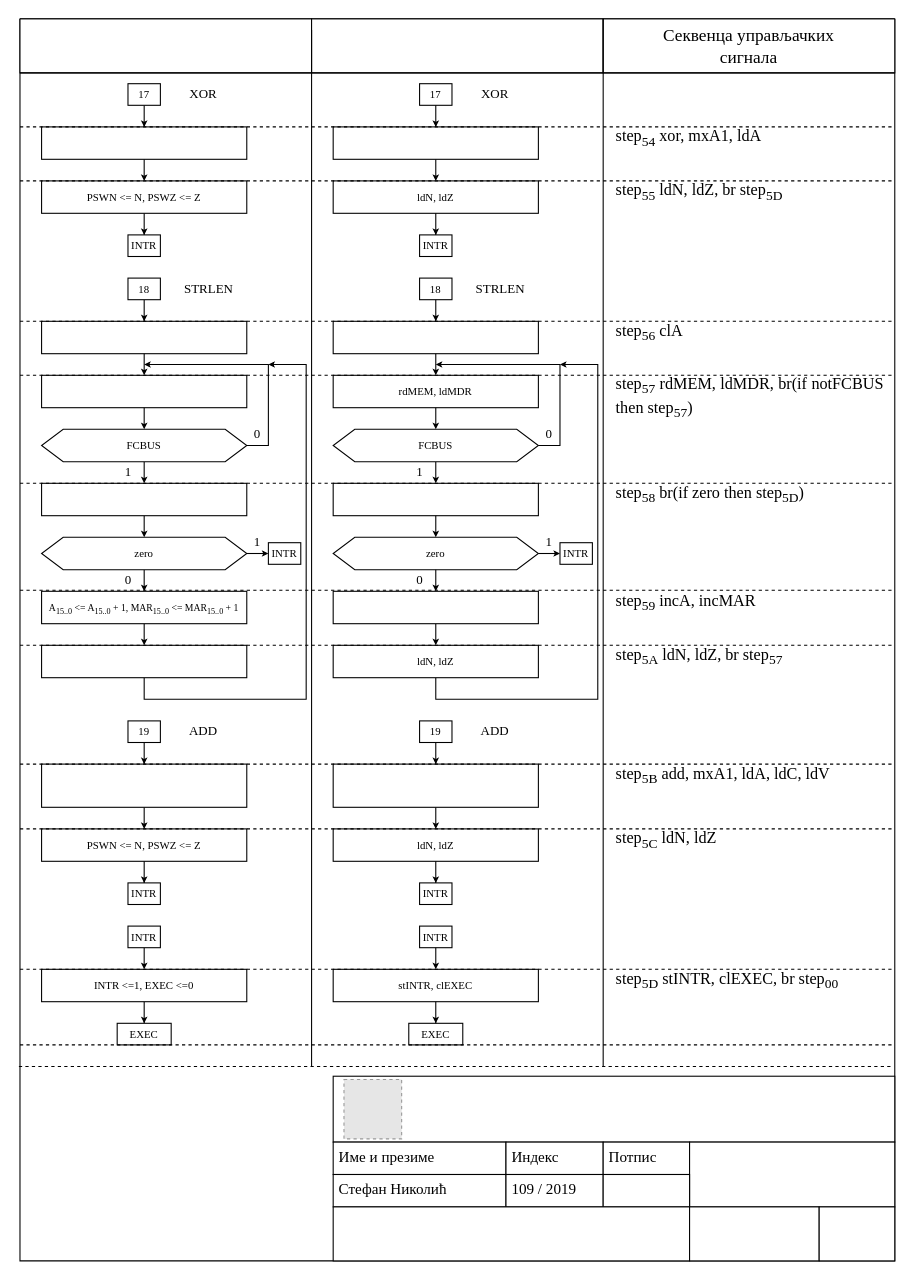
This 915x1280 diagram has some shape labels left out. Grey dashed boxes stand in for pictures. The shapes that lost their labels are listed below. From the top down, each one's box as (x1, y1, x2, y2) in pixels, then its label:
(19, 18, 312, 73): Дијаграм тока микрооперација
(310, 18, 603, 73): Дијаграм тока управљачких сигнала
(40, 126, 247, 159): A 15..0 <= A 15..0 xor B 15..0
(332, 126, 538, 159): xor, mxA1, ldA
(40, 320, 247, 354): A 15..0 <= 0
(332, 320, 538, 354): clA
(40, 374, 247, 408): MDR 7..0 <= MEM[MAR 15..0 ] 7..0
(332, 590, 538, 624): incA, incMAR
(40, 644, 247, 678): PSWN <= N, PSWZ <=Z
(40, 763, 247, 807): A 15..0 <= A 15..0 + B 15..0 , PSWC <= C, PSWV <= V
(332, 763, 538, 807): add, mxA1, ldA, ldC, ldV
(332, 1075, 895, 1142): Универзитет у Београду Електротехнички факултет
(688, 1141, 895, 1207): Пројекат Задатак 209
(332, 1206, 690, 1261): Назив Основи рачунарске технике 2
(688, 1206, 819, 1261): Датум 25.09.2021.
(818, 1206, 895, 1261): Страна 15
